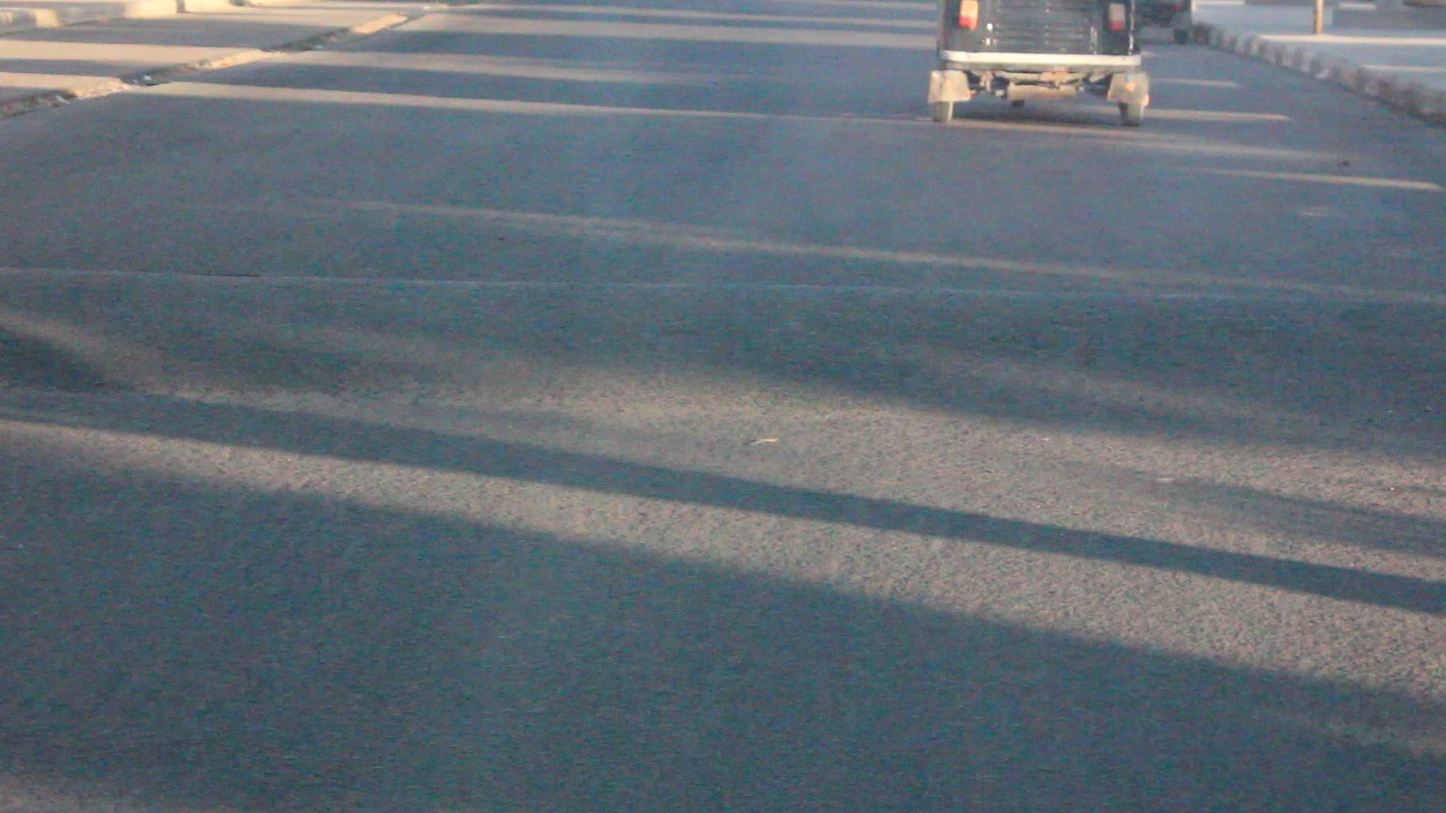Bump: (0, 254, 1446, 423)
